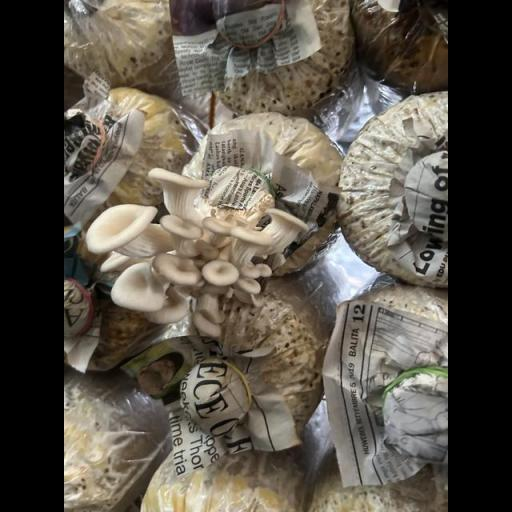White Oyster Mushroom: (77, 160, 318, 341)
